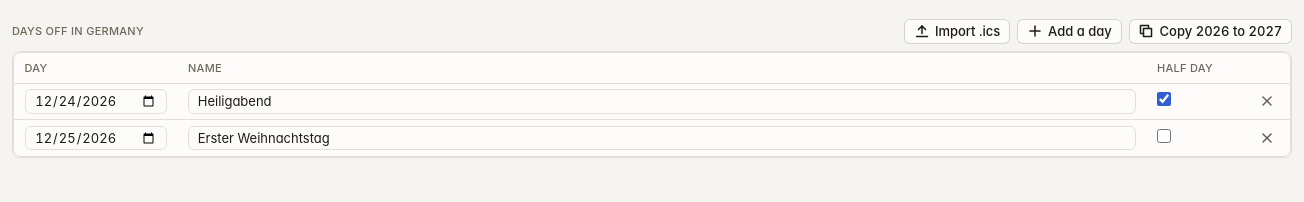
Test: a calendar's days off › copied into next year › says when there was nothing left to copy, and names a skipped 29 February
Step 1. Click the button "Copy 2026 to 2027" → {"x": 1210, "y": 31}, box [1129, 19, 1292, 44]
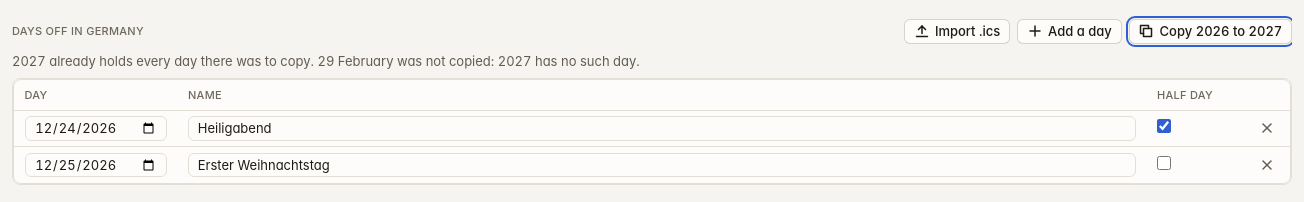
Check: the text "2027 already holds every day there was to copy. 29 February was not copied: 2027 has no such day." is shown, box [12, 52, 640, 68]
